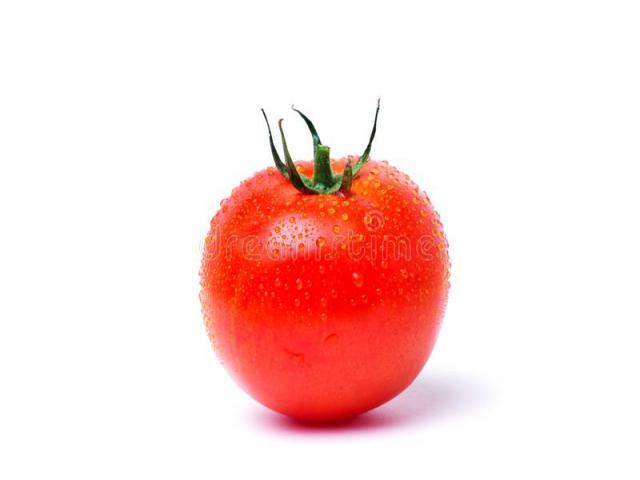tomato: (191, 149, 461, 435)
